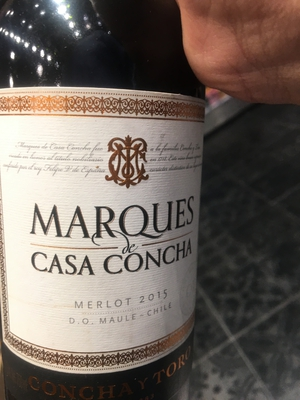marques de casa concha merlot: (2, 13, 210, 400)
